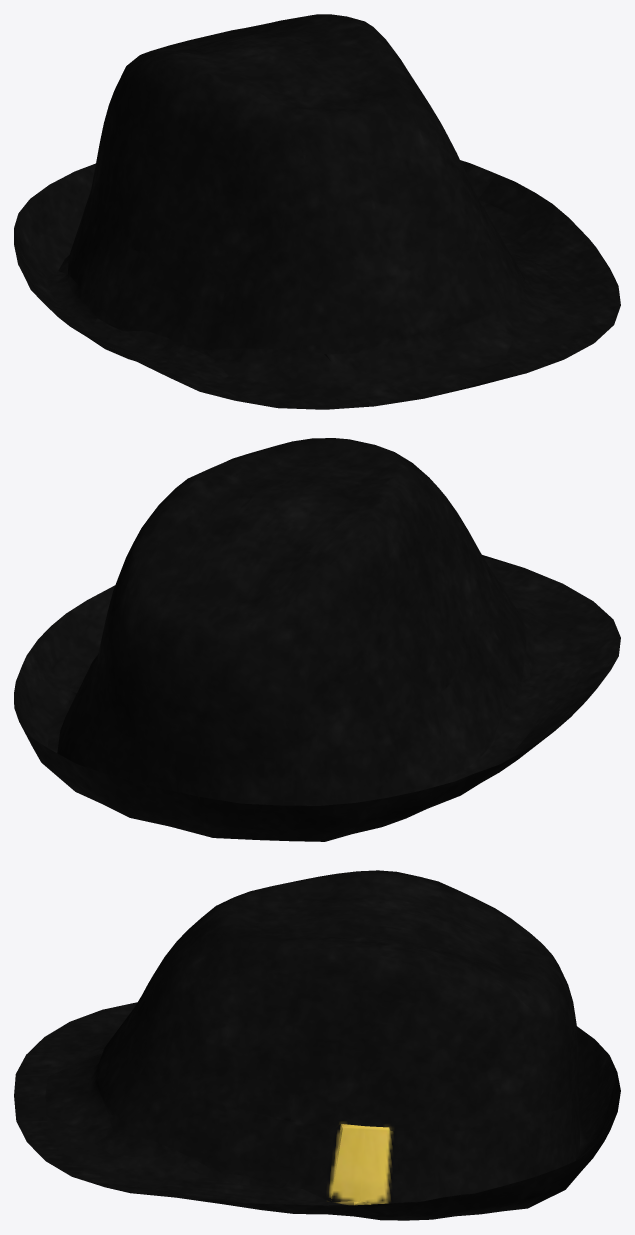
File: wear_fedora2.glb
3 views of the same model, one above another, from view 1: azimuth 30°, elevation 25°; view 2: azimuth 150°, elevation 25°; view 3: azimuth 270°, elevation 25° (orthographic). The views are drawn at different scales.
Visible parts, largest first — view 1: mesh; view 2: mesh; view 3: mesh.
Part boxes in pixels (box(x1,y1,x2,y2)): mesh: box(14, 14, 620, 409); mesh: box(14, 438, 620, 841); mesh: box(14, 870, 620, 1220).
Bounding box in the file's own units: 0.2652 × 0.13 × 0.3052.
Materials: 1 (1 with a texture image).
